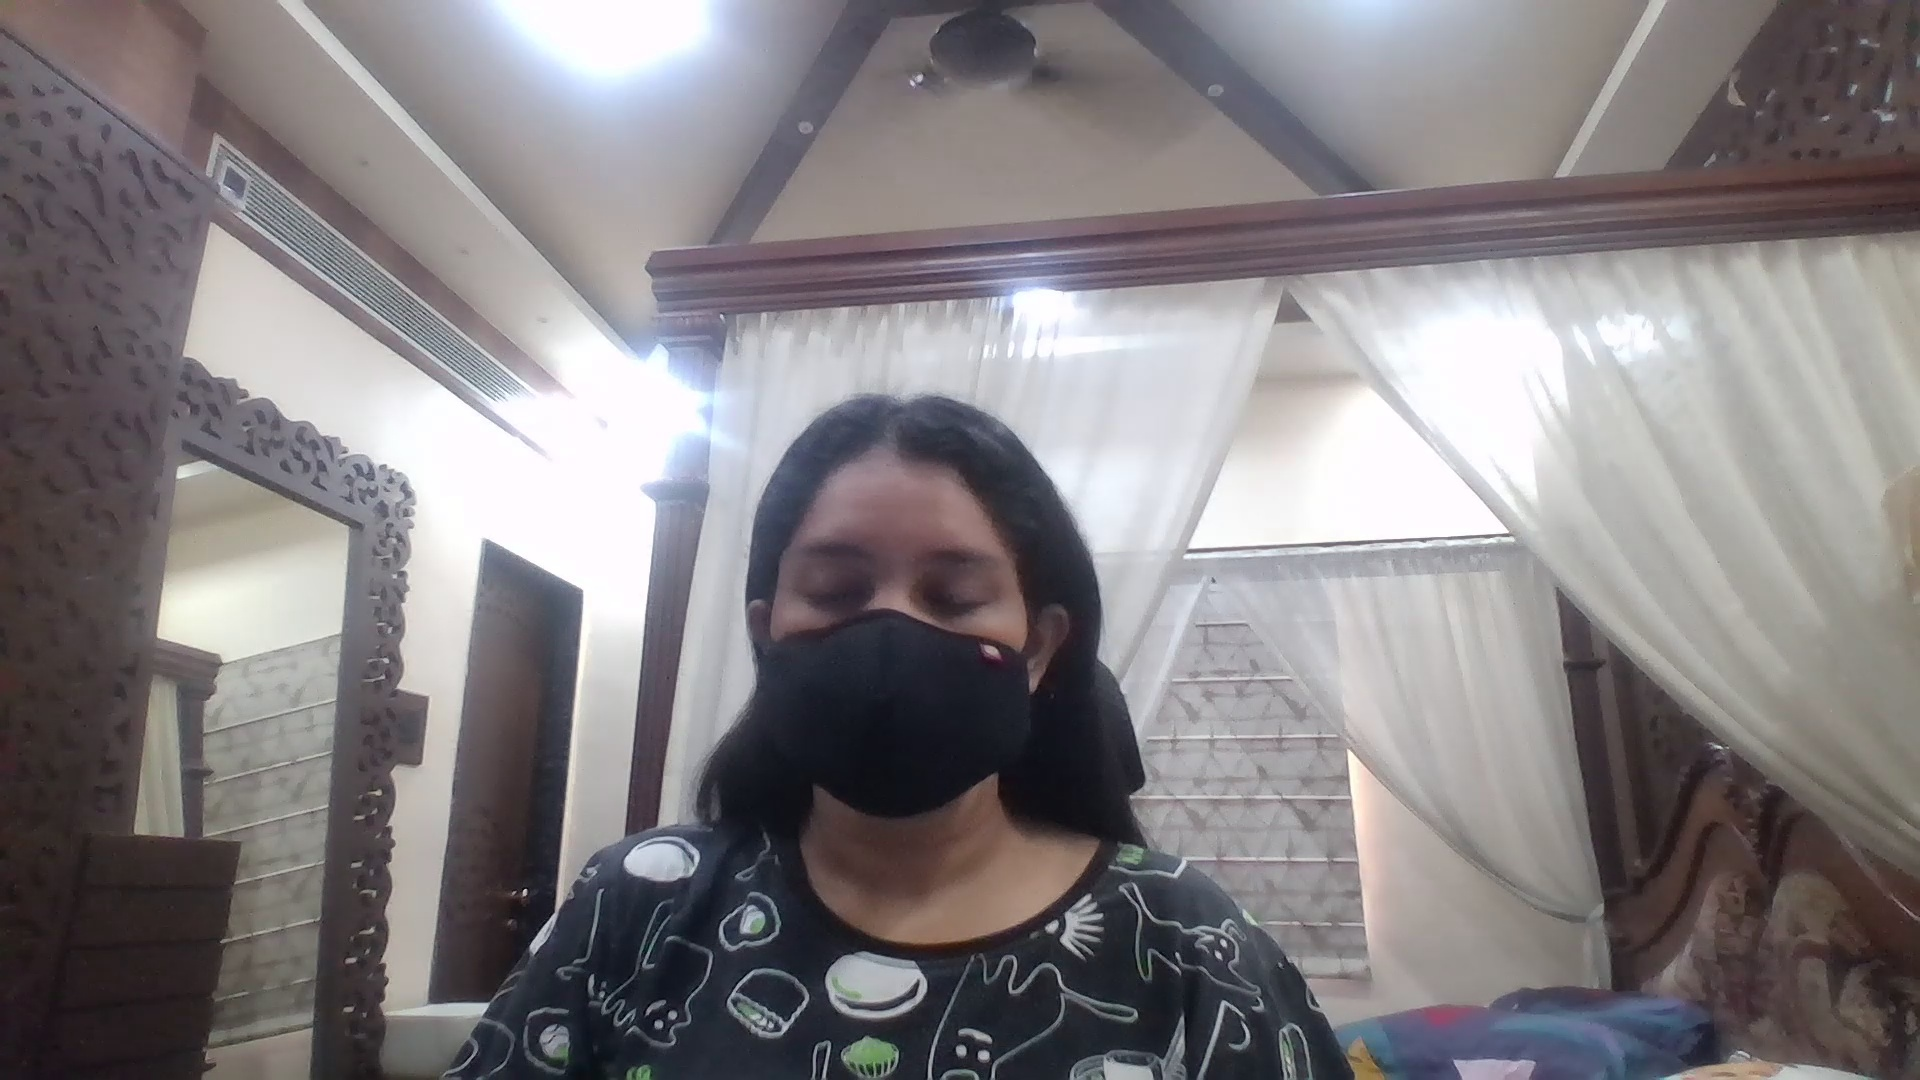Mask: (760, 622, 1034, 819)
